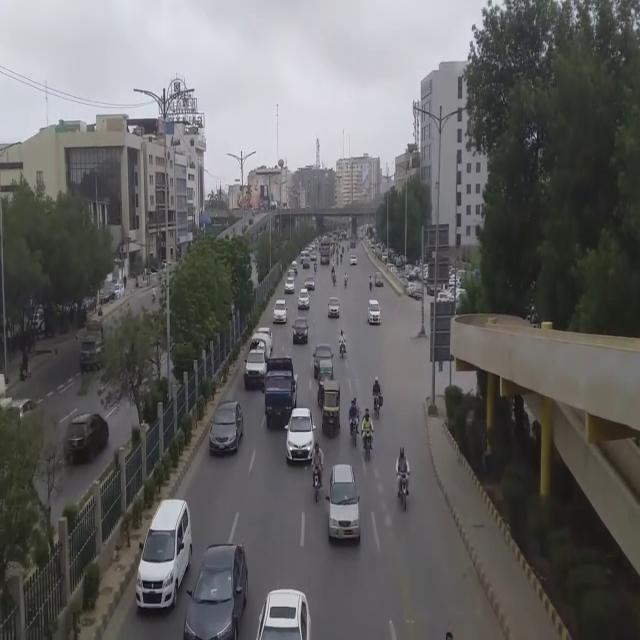car: (133, 490, 196, 618), (184, 544, 250, 640), (327, 455, 367, 553), (59, 412, 110, 465), (257, 589, 311, 639), (210, 399, 246, 456), (286, 409, 316, 466), (79, 334, 113, 378), (245, 350, 270, 390), (310, 348, 334, 382), (368, 298, 383, 326), (293, 319, 309, 345), (326, 296, 339, 317), (272, 308, 286, 323), (298, 294, 311, 310), (285, 283, 297, 295)
motorbike: (394, 438, 416, 521), (360, 403, 380, 468), (310, 439, 328, 509), (348, 392, 368, 448), (372, 374, 390, 423)
truck: (260, 352, 300, 432)
